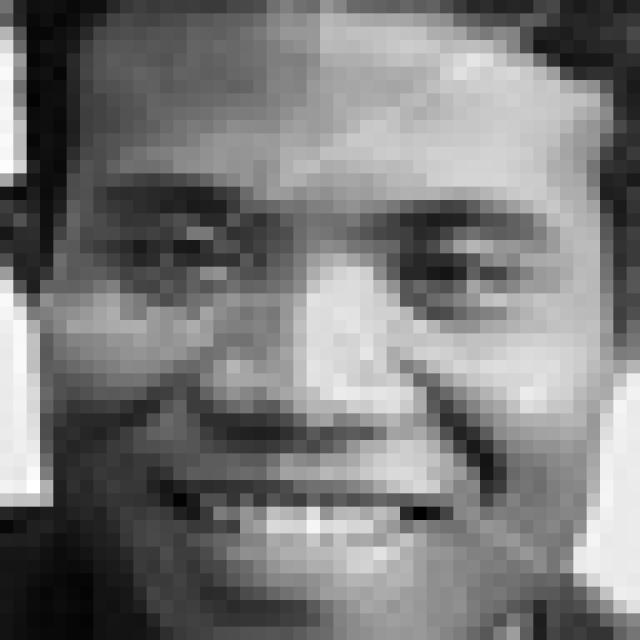happy: (100, 168, 562, 630)
